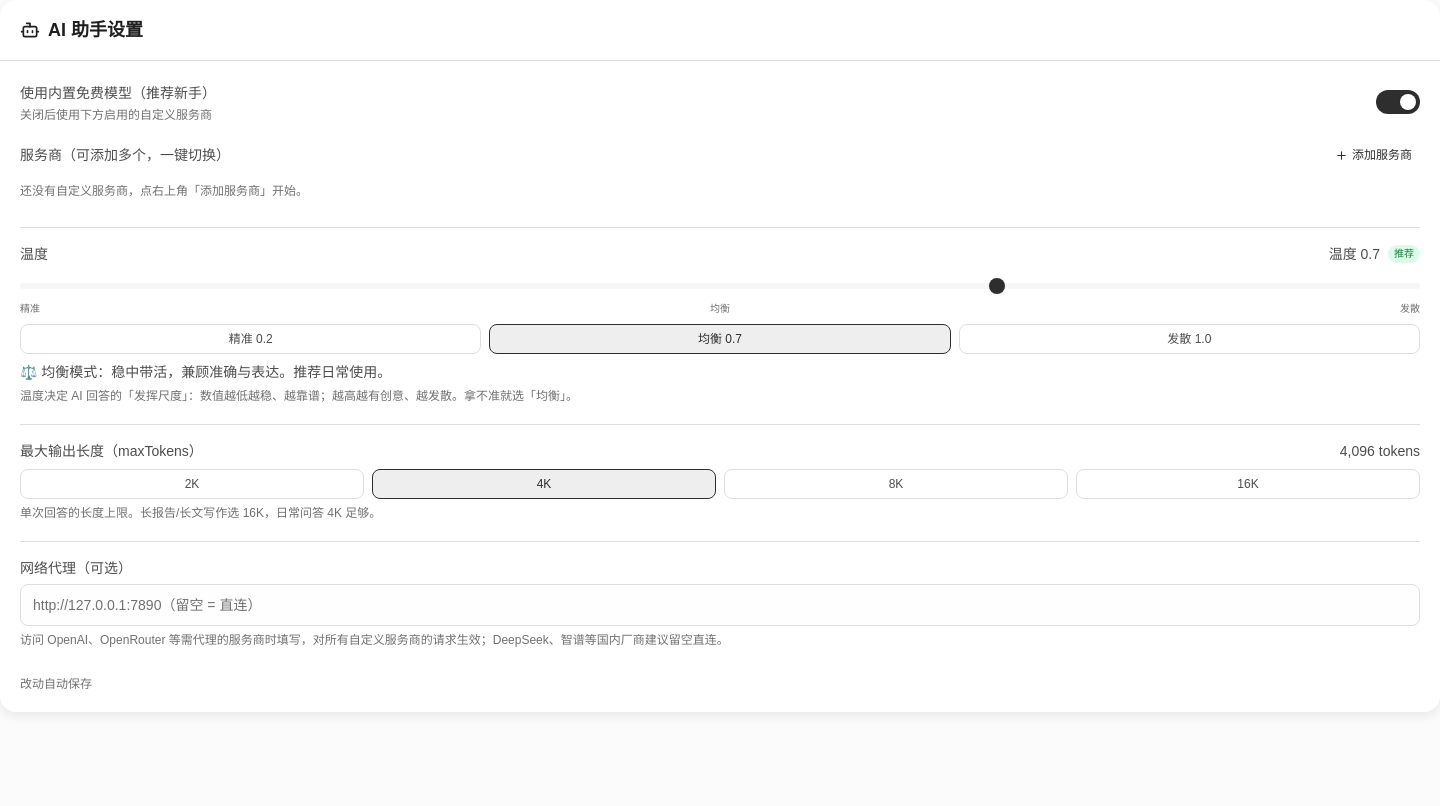
Test: AiProviderSection（多服务商管理） › 添加服务商 → 进列表并立即启用；保存 payload 结构正确（key 明文随请求、useBuiltIn 关）
Click the button "添加服务商" at (1374, 155), box x1=1327 y1=143 x2=1420 y2=167
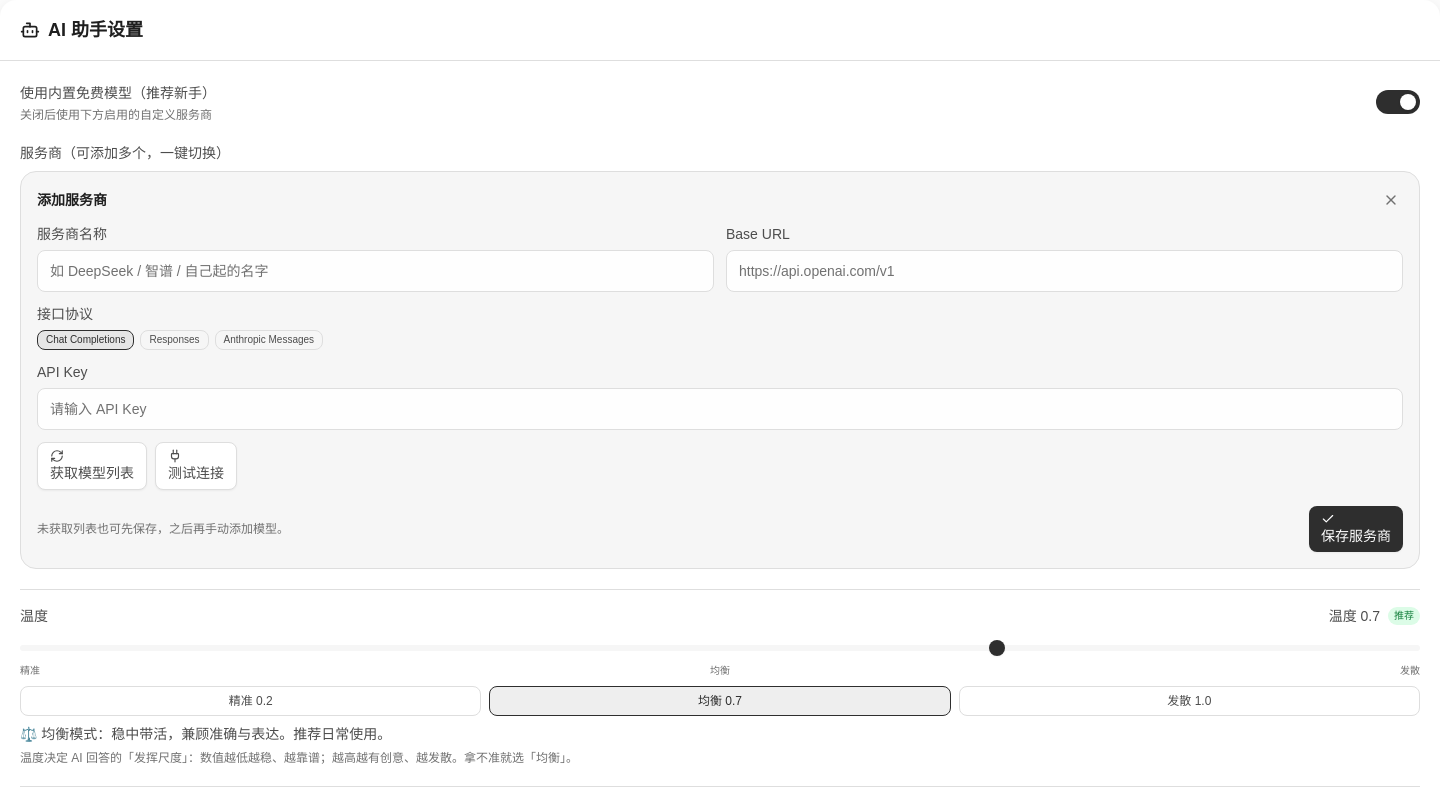
Type "DeepSeek" into the field with placeholder "如 DeepSeek / 智谱 / 自己起的名字" at (376, 271), box x1=37 y1=250 x2=714 y2=292
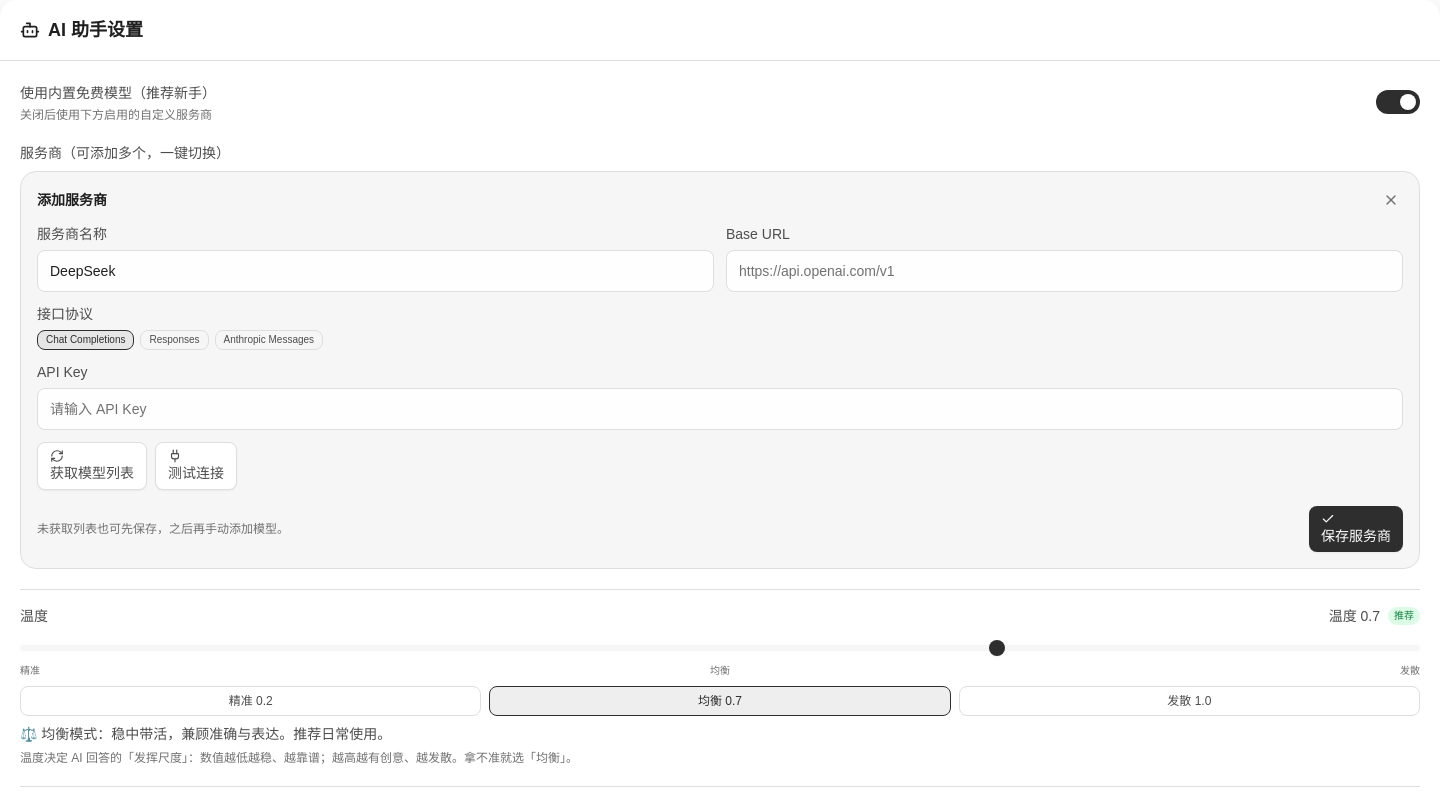
Type "https://api.deepseek.com/v1" into the field with placeholder "https://api.openai.com/v1" at (1064, 271), box x1=726 y1=250 x2=1403 y2=292
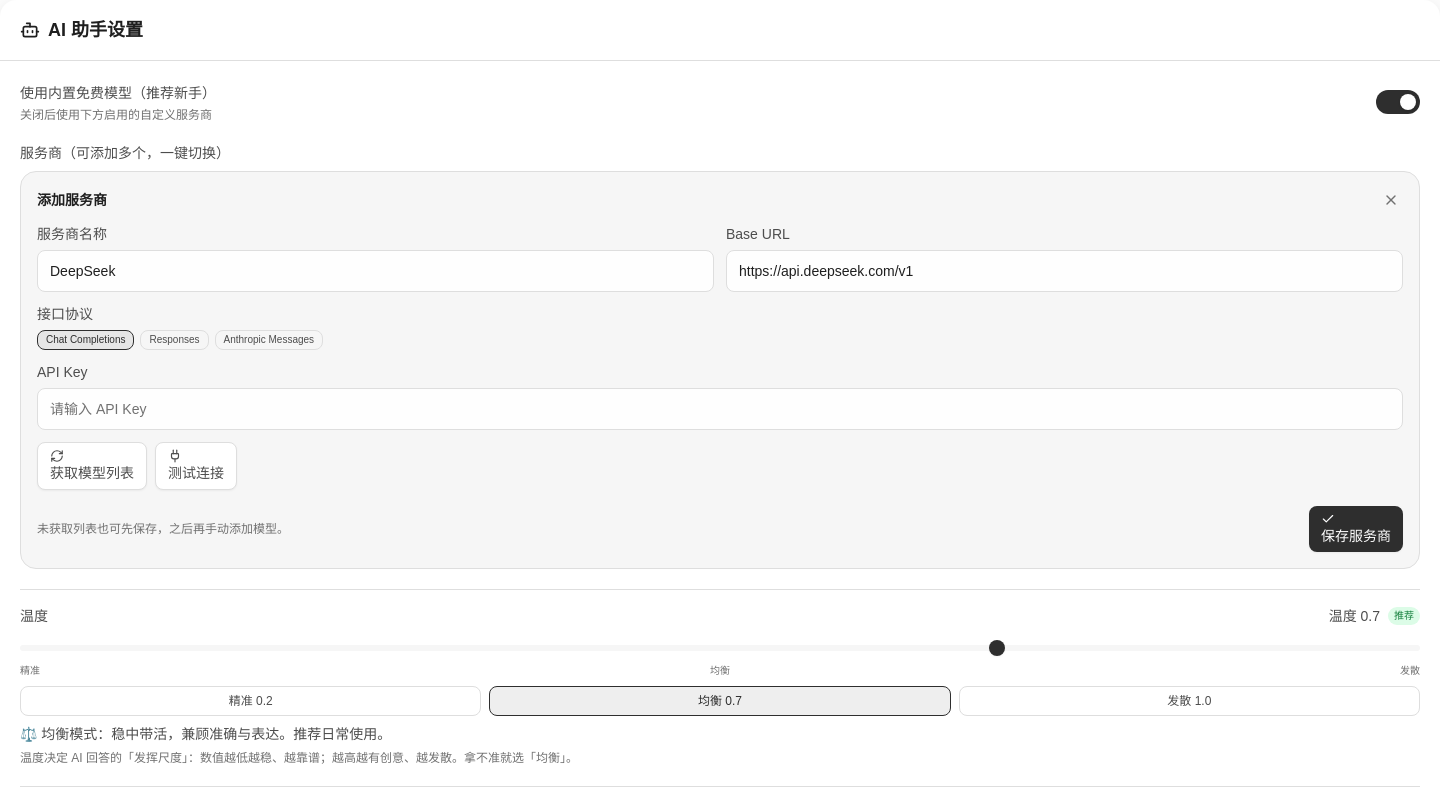
Type "sk-test" into the password field with placeholder "请输入 API Key" at (720, 409), box x1=37 y1=388 x2=1403 y2=430
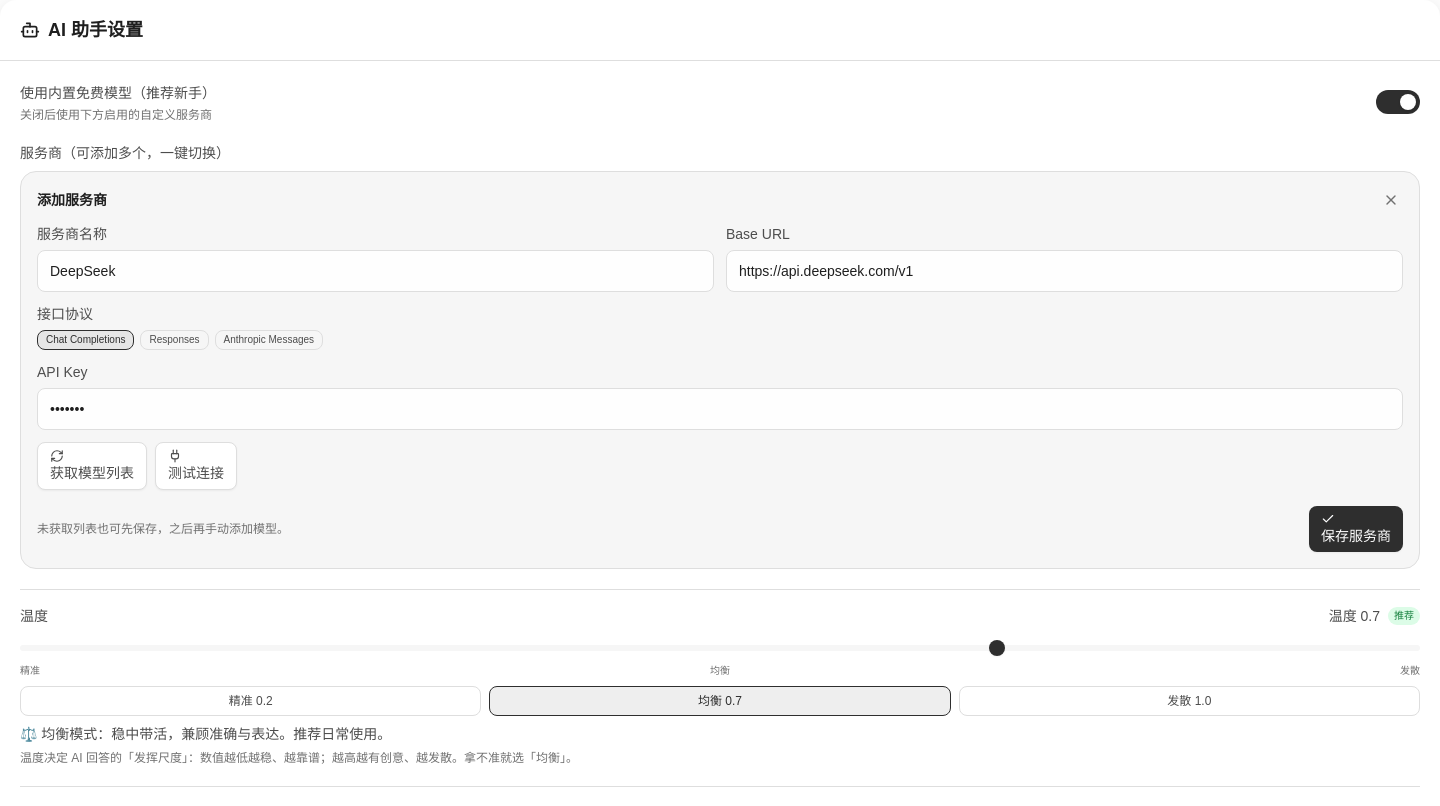
Click the button "保存服务商" at (1356, 529), box x1=1309 y1=506 x2=1403 y2=552
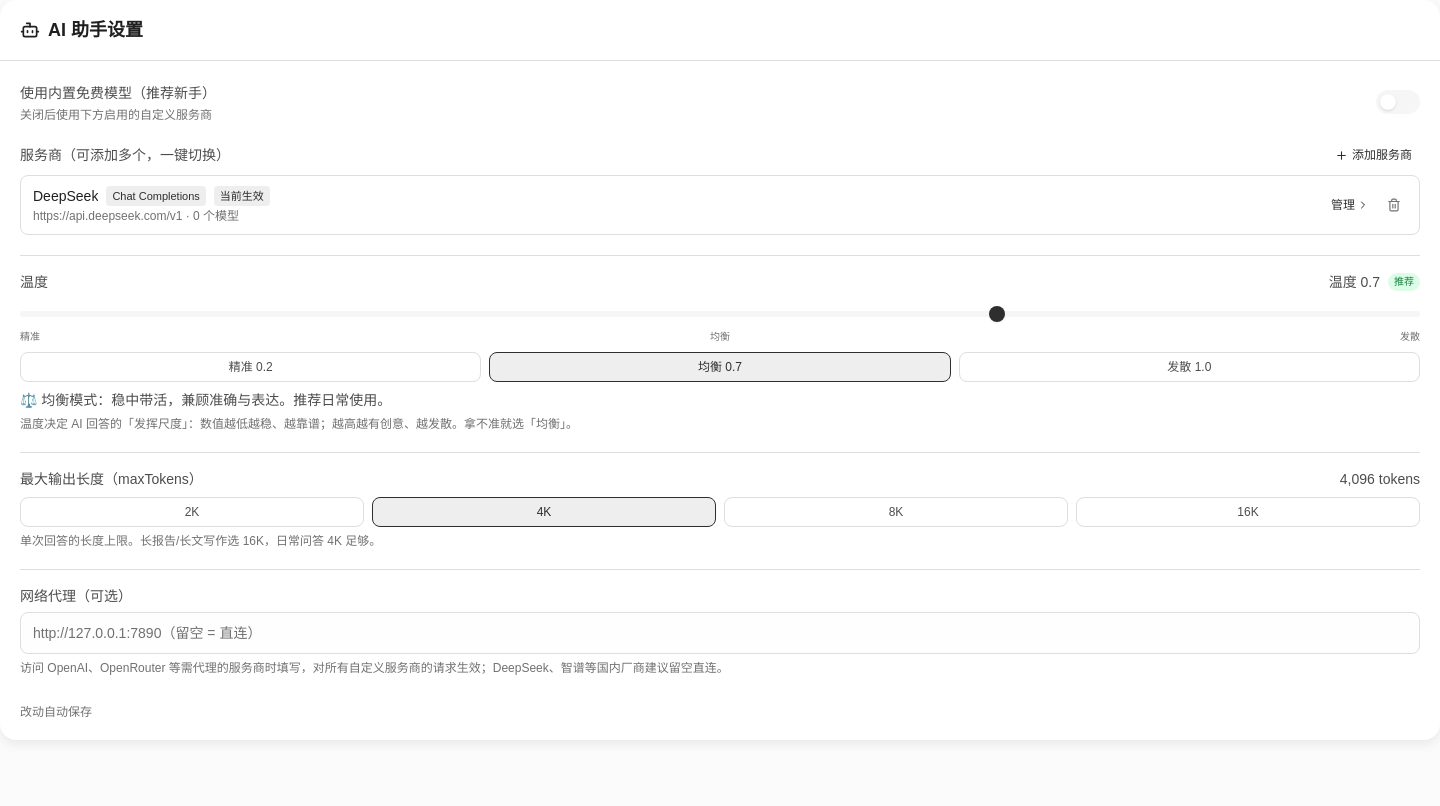
Expected: the text "DeepSeek" is shown, x1=33 y1=186 x2=98 y2=206
Expected: the text "当前生效" is shown, x1=214 y1=186 x2=270 y2=206
